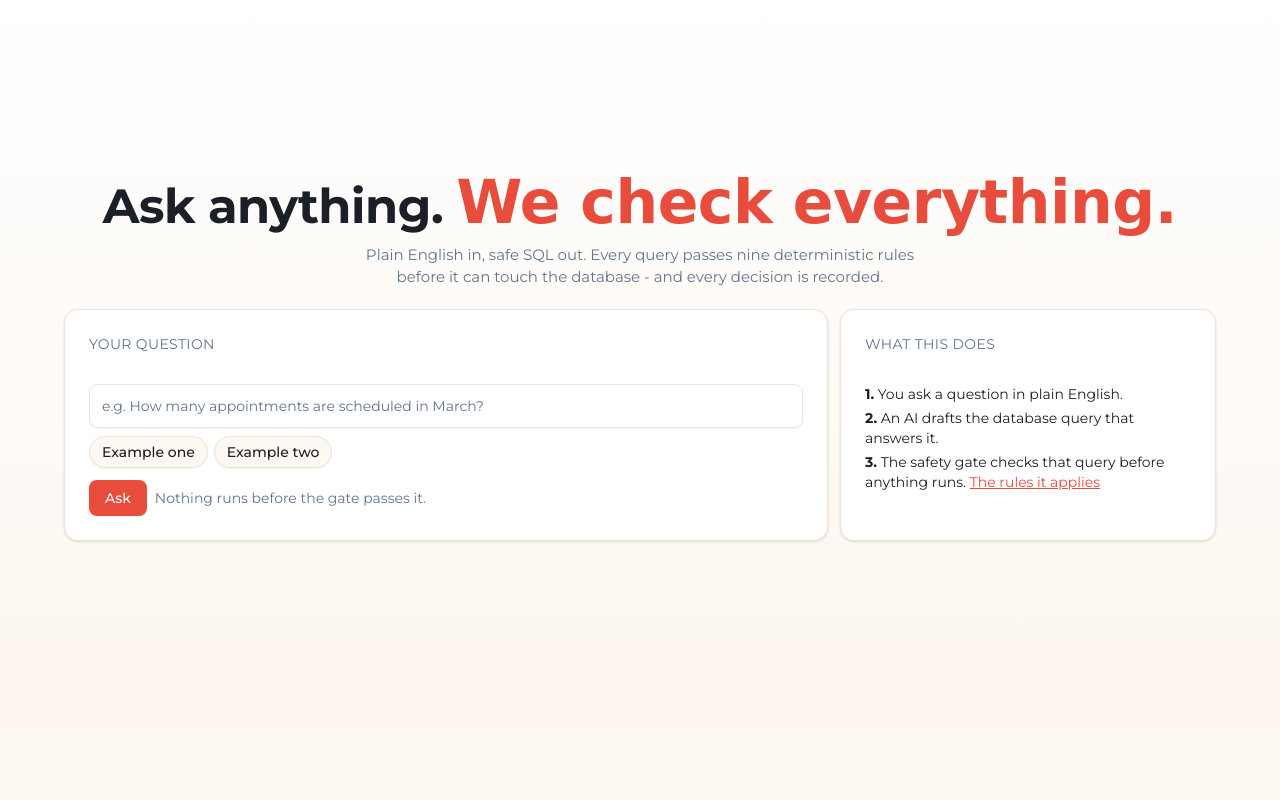
Test: AskView › renders a blocked verdict without any answer table
Step 1. Click the button "Example one" → click(148, 452), box [89,436,208,468]
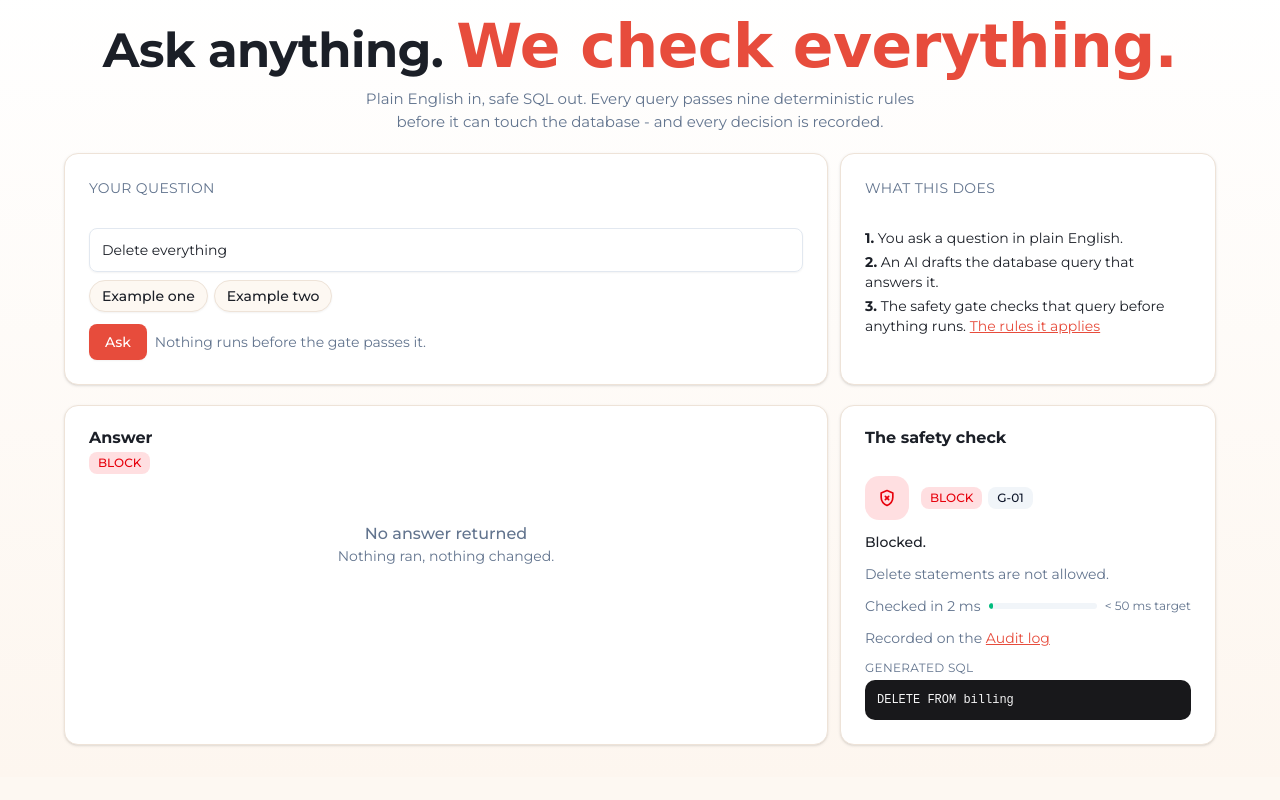
Result: the text "The safety check" is shown at [865,428,1006,447]
Result: the 1st text "BLOCK" is shown at [89,452,150,474]
Result: the text "Delete statements are not allowed." is shown at [865,565,1109,583]
